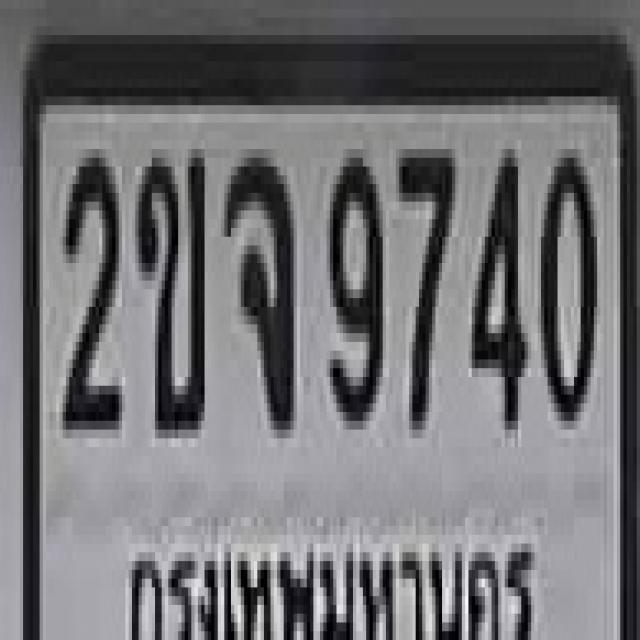0: (538, 140, 594, 412)
2: (59, 145, 119, 425)
4: (468, 140, 522, 421)
7: (396, 140, 452, 421)
9: (326, 149, 379, 421)
A02: (135, 140, 201, 430)
A08: (221, 149, 290, 430)
BKK: (124, 540, 542, 640)
